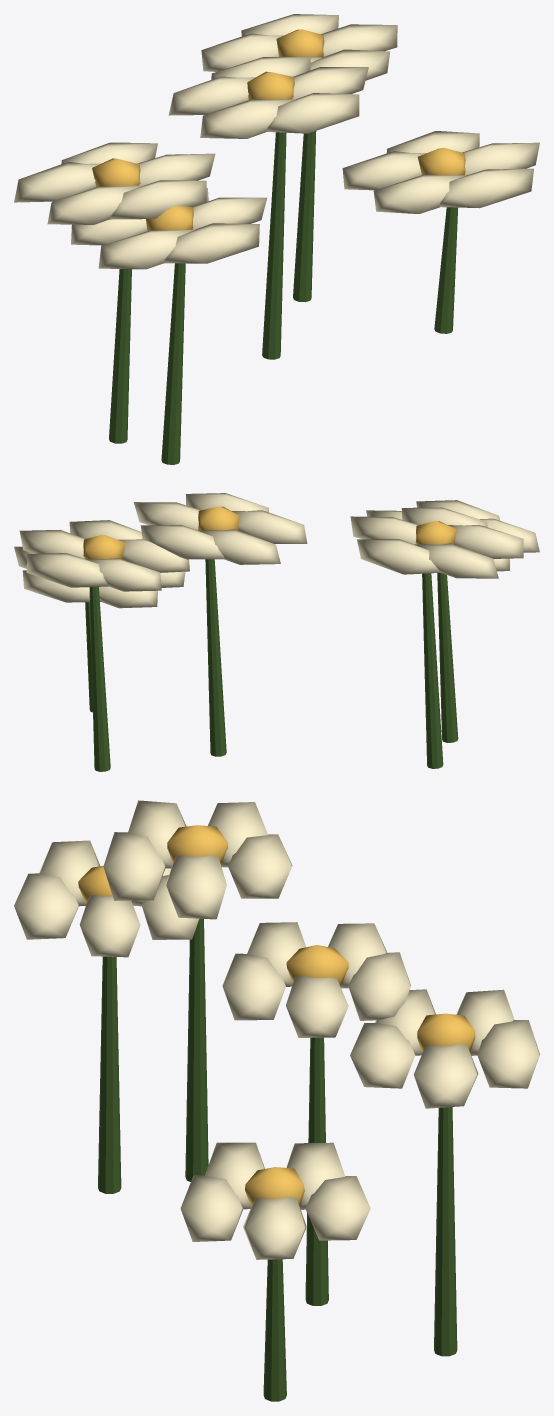
Rendered from valley_daisy.glb.
The picture shows the model from 3 angles, top to bottom: view 1: azimuth 30°, elevation 25°; view 2: azimuth 150°, elevation 25°; view 3: azimuth 270°, elevation 25°; orthographic projection. The views are drawn at different scales.
Parts seen in each view (by area): view 1: valley_daisy; view 2: valley_daisy; view 3: valley_daisy.
Part boxes in pixels (left/top/right/bottom): valley_daisy: left=14, top=14, right=539, bottom=464; valley_daisy: left=14, top=493, right=539, bottom=771; valley_daisy: left=14, top=800, right=539, bottom=1401.
Size of the model in its own units: 1.19 by 0.5955 by 0.7956.
